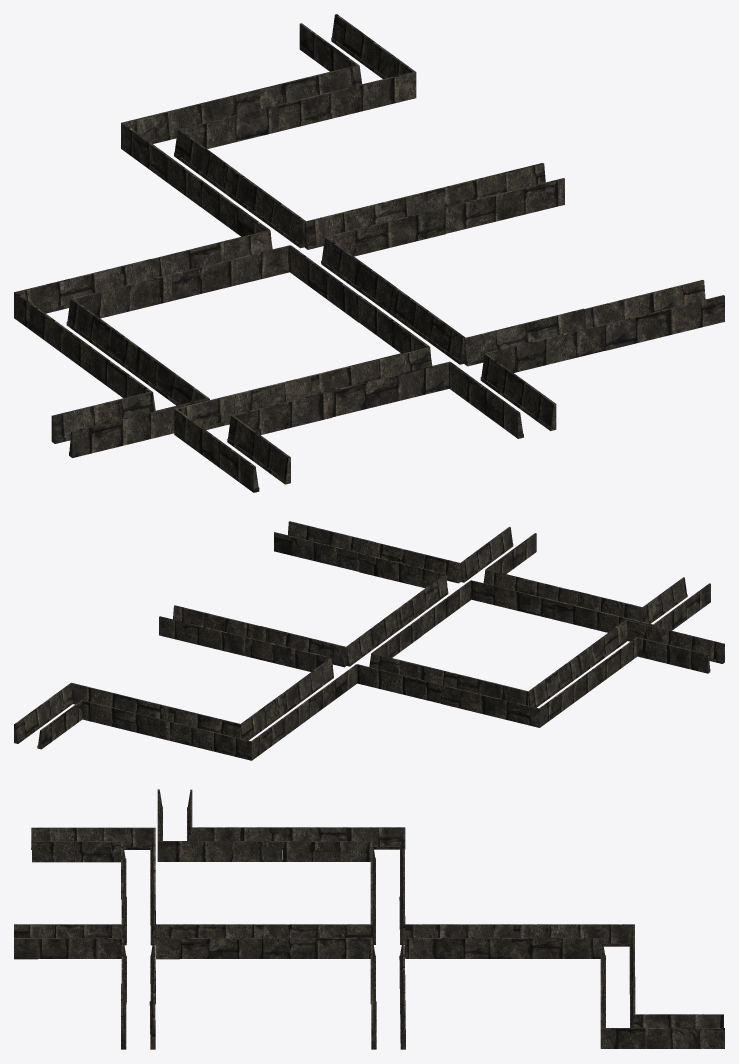
Rendered from Maze1.fbx.
3 renders of one model, top to bottom at view 1: azimuth 30°, elevation 25°; view 2: azimuth 150°, elevation 25°; view 3: azimuth 270°, elevation 25°, orthographic. The views are drawn at different scales.
Visible parts, largest first — view 1: polySurface68; view 2: polySurface68; view 3: polySurface68.
Boxes of the visible parts, box(x1,y1,x2,y2) form: polySurface68: box(14, 14, 724, 492); polySurface68: box(14, 521, 724, 760); polySurface68: box(14, 789, 724, 1049).
Size of the model in its own units: 305 by 12 by 381.
1 material, 1 textured.
